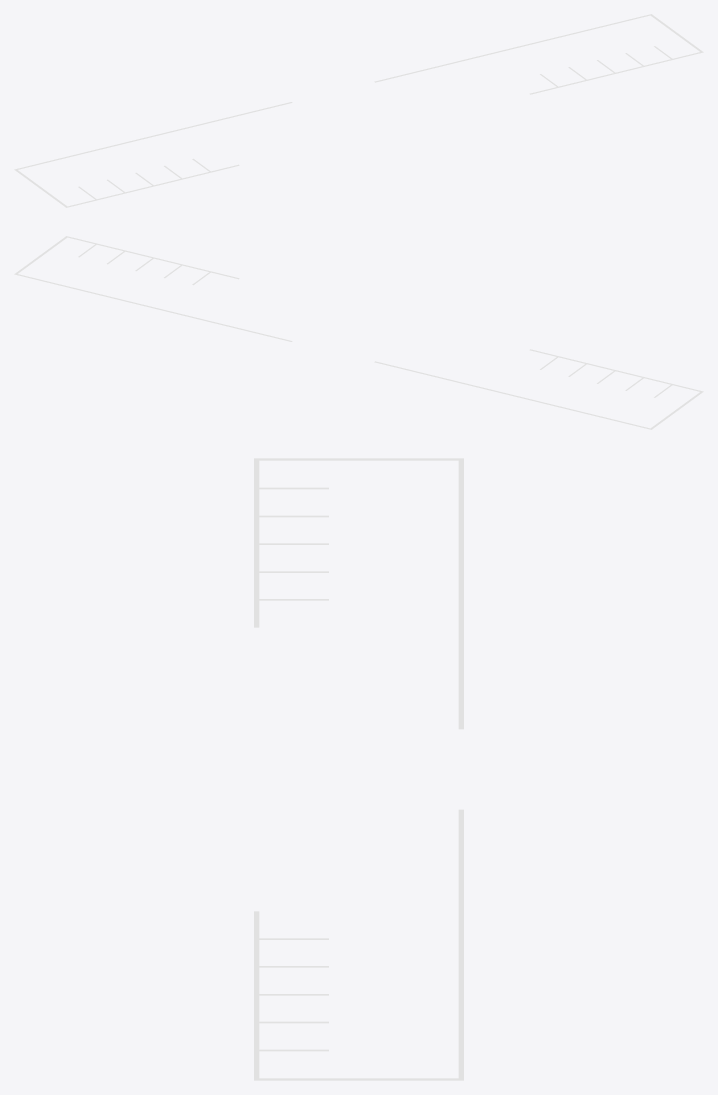
File: ParkiranSekolah.fbx
The picture shows the model from 3 angles, top to bottom: view 1: azimuth 30°, elevation 25°; view 2: azimuth 150°, elevation 25°; view 3: azimuth 270°, elevation 25°; orthographic projection. The views are drawn at different scales.
Visible parts, largest first — view 1: Plane.028; view 2: Plane.028; view 3: Plane.028.
Boxes of the visible parts, x1,y1,x2,y2 form: Plane.028: [14, 14, 703, 207]; Plane.028: [14, 236, 703, 429]; Plane.028: [254, 458, 463, 1080].
Bounding box in the file's own units: 21526 × 0.0005 × 3066.
